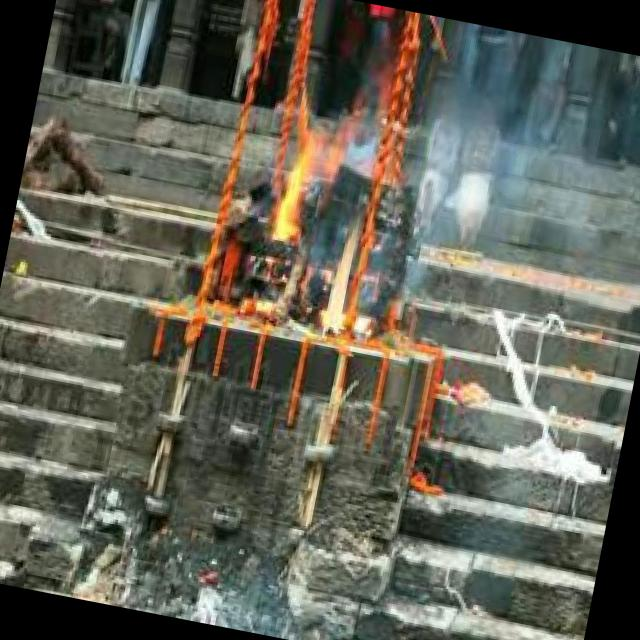Fire: (245, 80, 409, 342)
